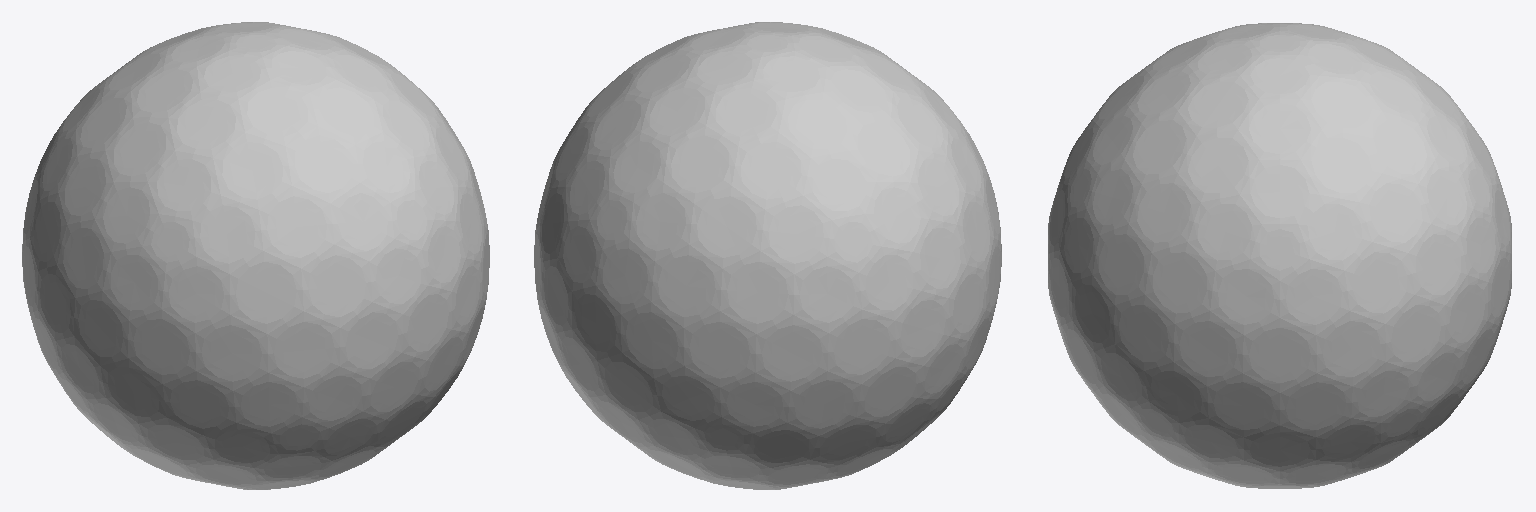
The model's file is ball.obj.
3 views of the same model, side by side, from view 1: azimuth 30°, elevation 25°; view 2: azimuth 150°, elevation 25°; view 3: azimuth 270°, elevation 25° (orthographic).
Parts seen in each view (by area): view 1: Icosphere; view 2: Icosphere; view 3: Icosphere.
Part boxes in pixels (x1,y1,x2,y2): Icosphere: (22,22,489,489); Icosphere: (534,22,1001,489); Icosphere: (1048,23,1511,488).
Size of the model in its own units: 1.93 by 1.95 by 1.93.